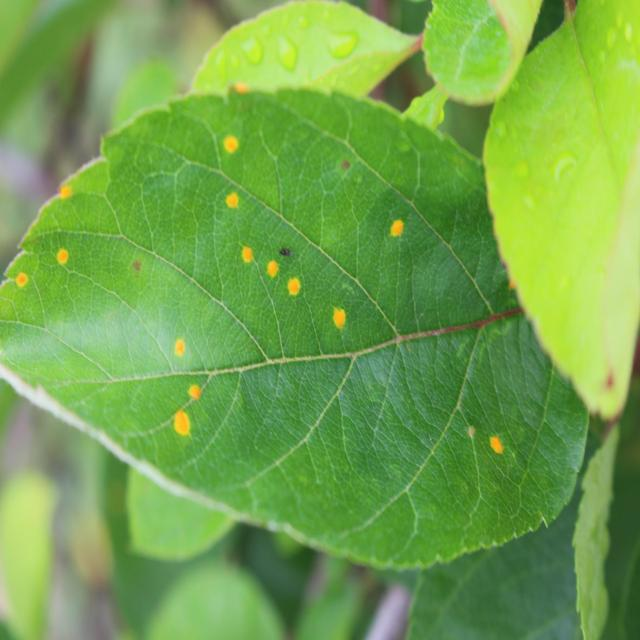rust: (0, 83, 590, 570)
